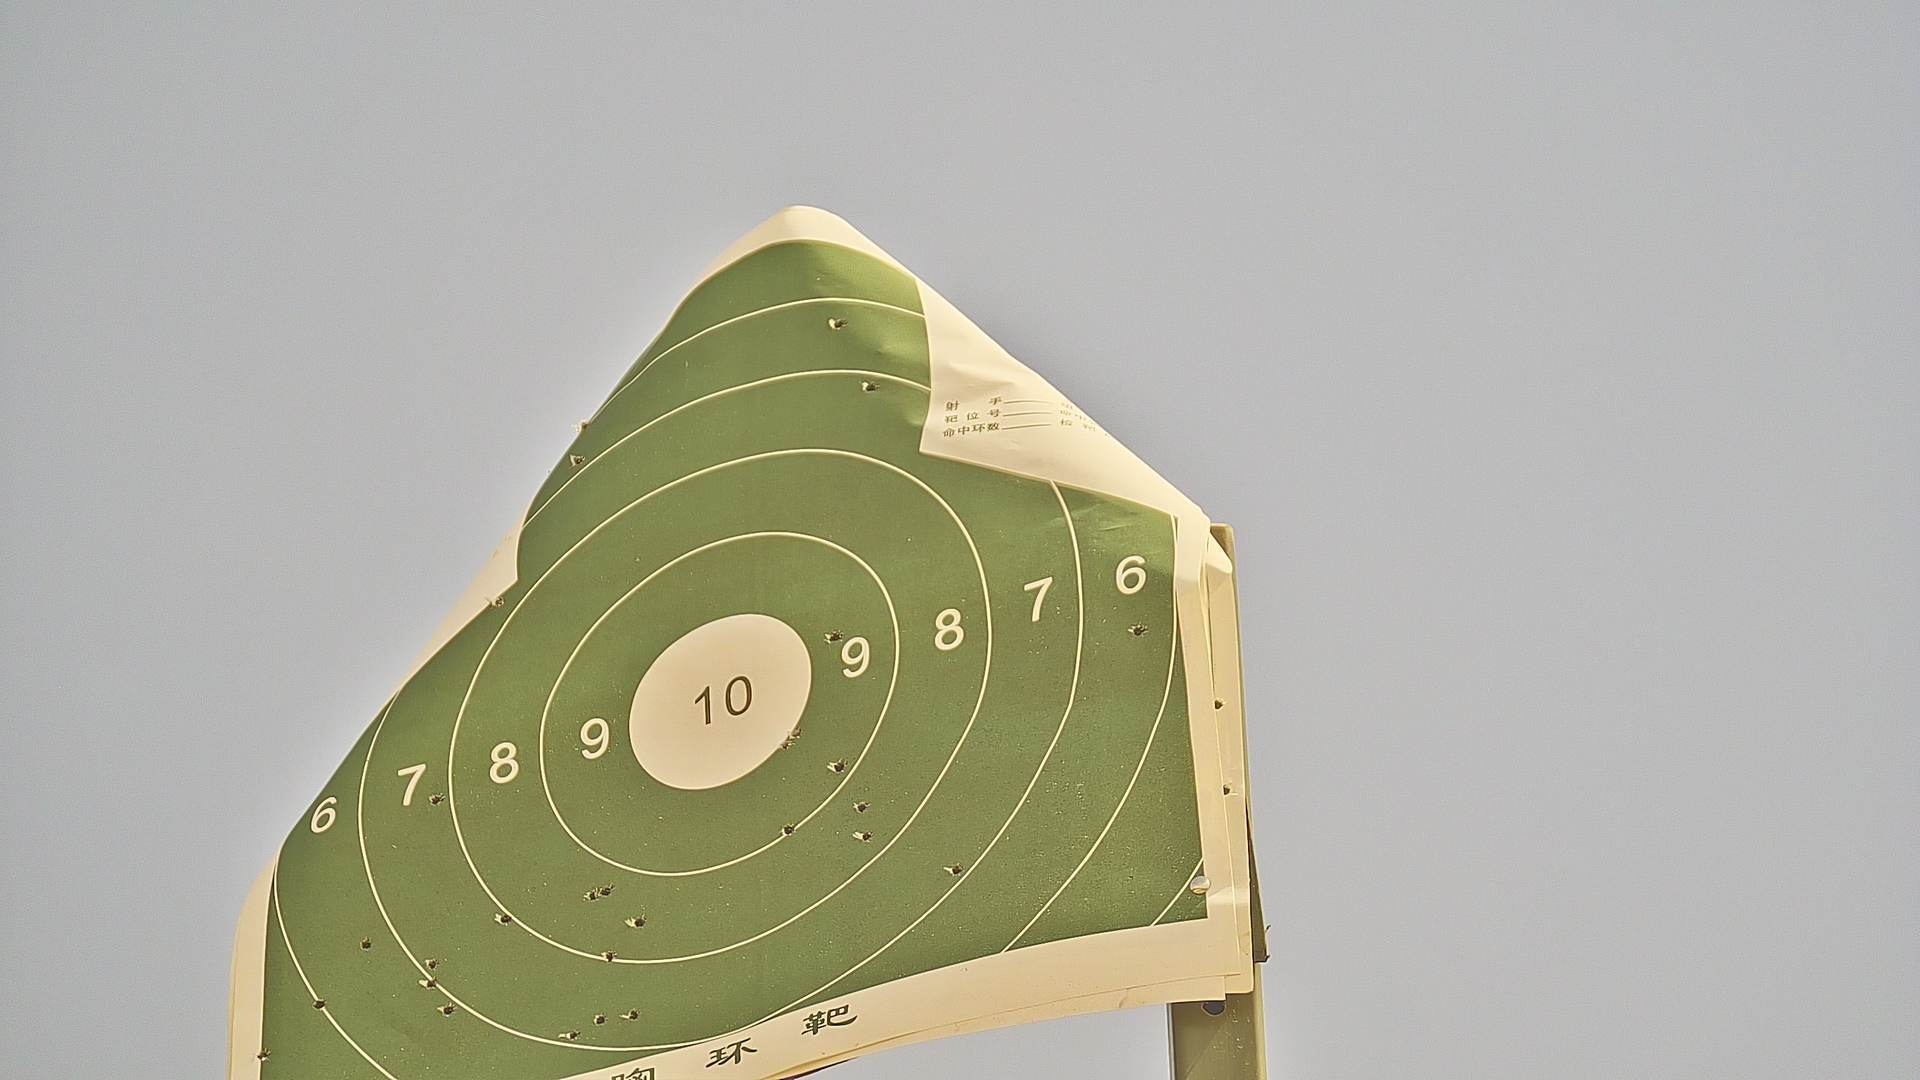hole: (825, 629, 844, 645), (1130, 622, 1145, 637), (624, 1007, 640, 1021), (429, 793, 444, 806), (832, 758, 847, 771), (782, 822, 796, 835), (633, 915, 647, 928), (442, 1002, 454, 1018), (949, 862, 963, 876), (791, 725, 804, 738), (781, 738, 794, 752), (603, 949, 616, 961), (593, 1013, 607, 1025), (498, 913, 512, 924), (359, 938, 372, 949), (425, 976, 436, 989), (864, 381, 878, 392), (426, 956, 436, 971), (571, 454, 584, 464), (858, 829, 872, 840), (313, 998, 326, 1009), (856, 802, 868, 812), (585, 889, 597, 899), (567, 1031, 579, 1042), (833, 316, 843, 328), (601, 886, 611, 895), (495, 596, 504, 604)
kernel: (713, 702, 719, 703)
target: (261, 243, 1215, 1080)
ten: (630, 616, 810, 785)
